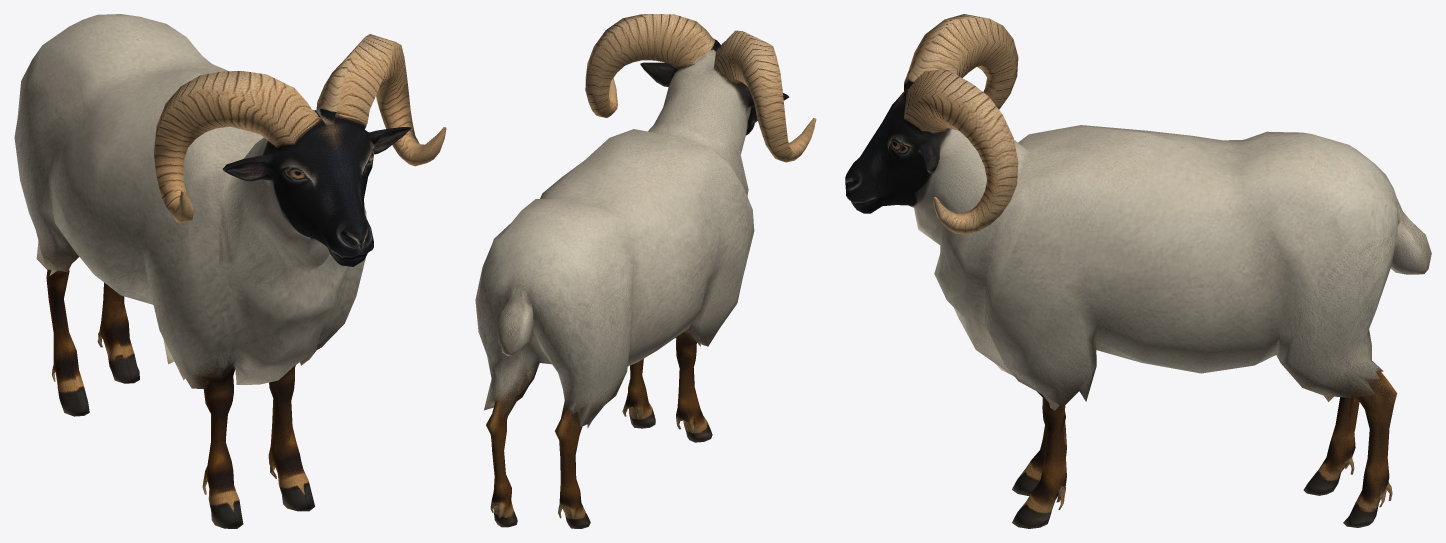
File: koc.glb
3 views of the same model, side by side, from view 1: azimuth 30°, elevation 25°; view 2: azimuth 150°, elevation 25°; view 3: azimuth 270°, elevation 25° (orthographic). The views are drawn at different scales.
Bounding box in the file's own units: 0.4712 × 0.8237 × 0.9541.
1 material, 1 textured.
